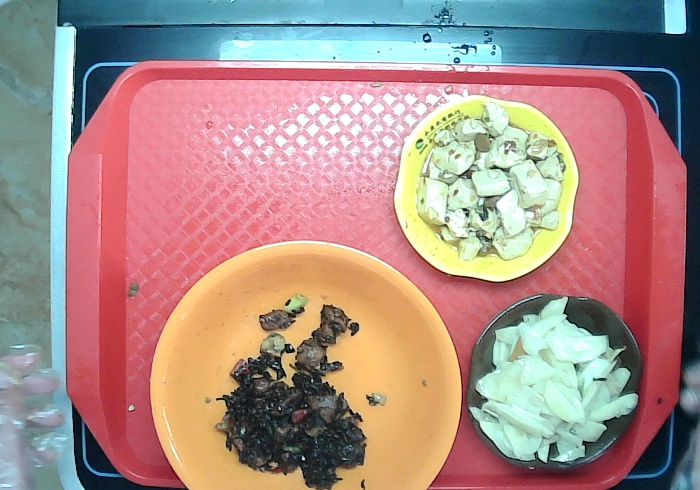YKMZ-Huang_Se_Ao_Bian_Wan: (391, 93, 581, 284)
YKMZ-Ju_Se_Tang_Wan: (148, 238, 464, 490)
YKMZ-Ka_Fei_Ao_Bian_Wan: (465, 292, 645, 475)
